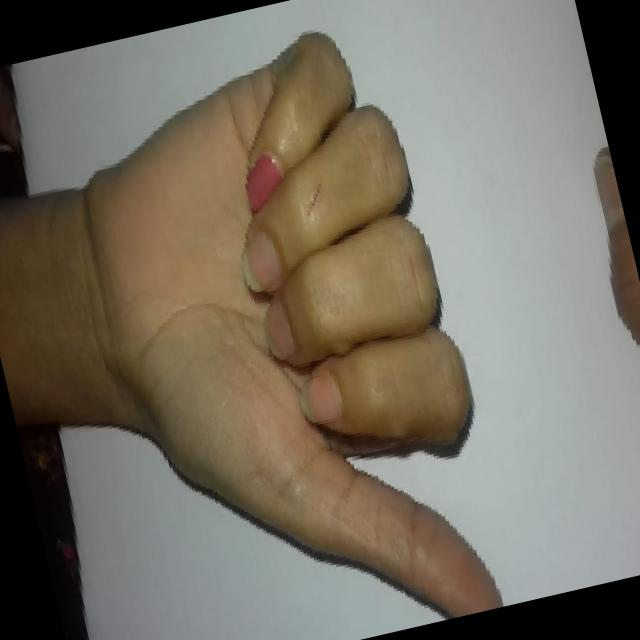Nail: (241, 229, 280, 291), (302, 367, 342, 423), (245, 152, 283, 210), (265, 300, 296, 359)
